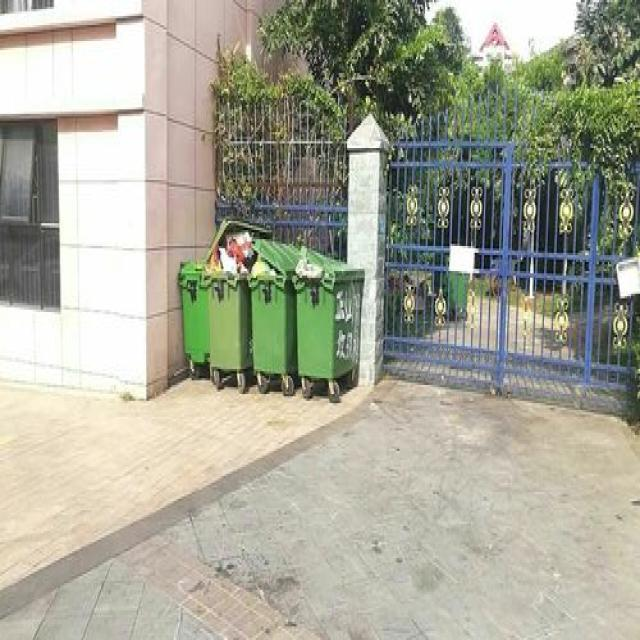garbage_bin: (178, 260, 211, 362)
overflow: (293, 246, 361, 374), (203, 218, 251, 366), (248, 235, 297, 371)
